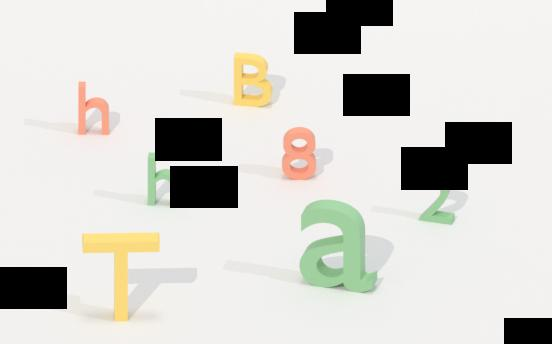2: (414, 165, 462, 229)
8: (280, 124, 319, 186)
a: (296, 195, 380, 300)
b: (230, 50, 276, 115)
h: (76, 77, 114, 138), (145, 149, 182, 211)
t-hoa: (80, 228, 163, 324)
